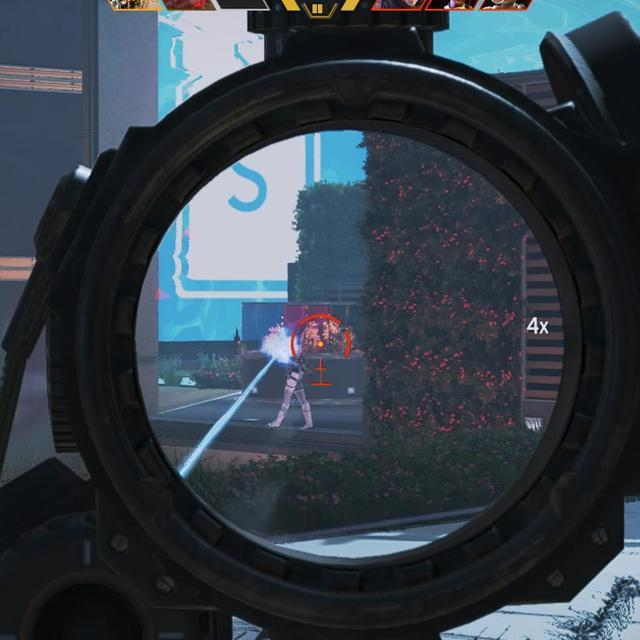avatar: (269, 325, 317, 431)
object: (260, 327, 301, 366)
